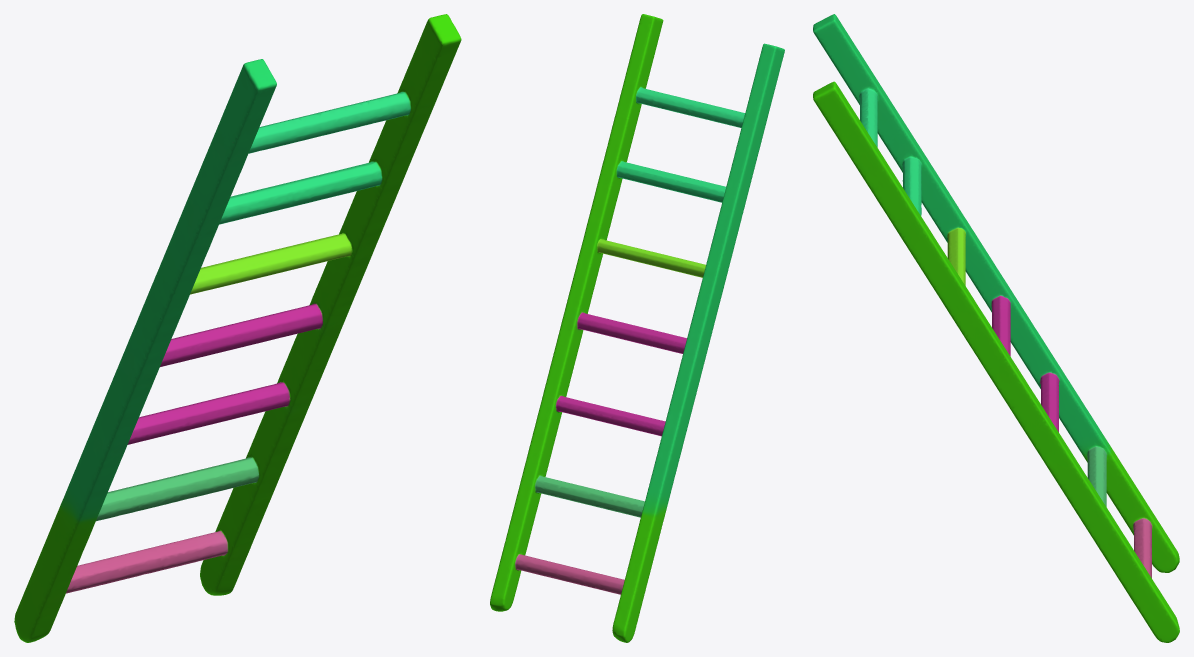
Rendered from ladder.glb.
3 views of the same model, side by side, from view 1: azimuth 30°, elevation 25°; view 2: azimuth 150°, elevation 25°; view 3: azimuth 270°, elevation 25° (orthographic). The views are drawn at different scales.
Visible parts, largest first — view 1: world; view 2: world; view 3: world.
Part boxes in pixels (box(x1,y1,x2,y2)): world: box(14, 14, 461, 642); world: box(490, 14, 784, 642); world: box(813, 14, 1179, 642).
Bounding box in the file's own units: 0.2912 × 1 × 0.6004.
Materials: 1 (1 with a texture image).
